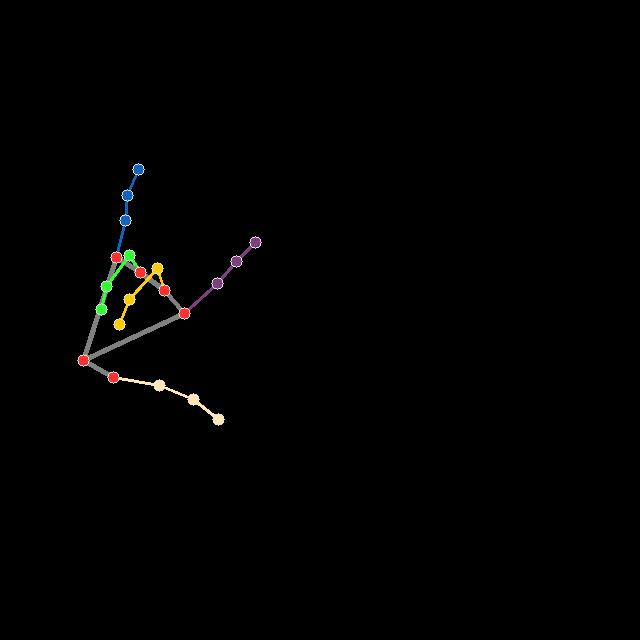spiderman: (76, 161, 264, 430)
